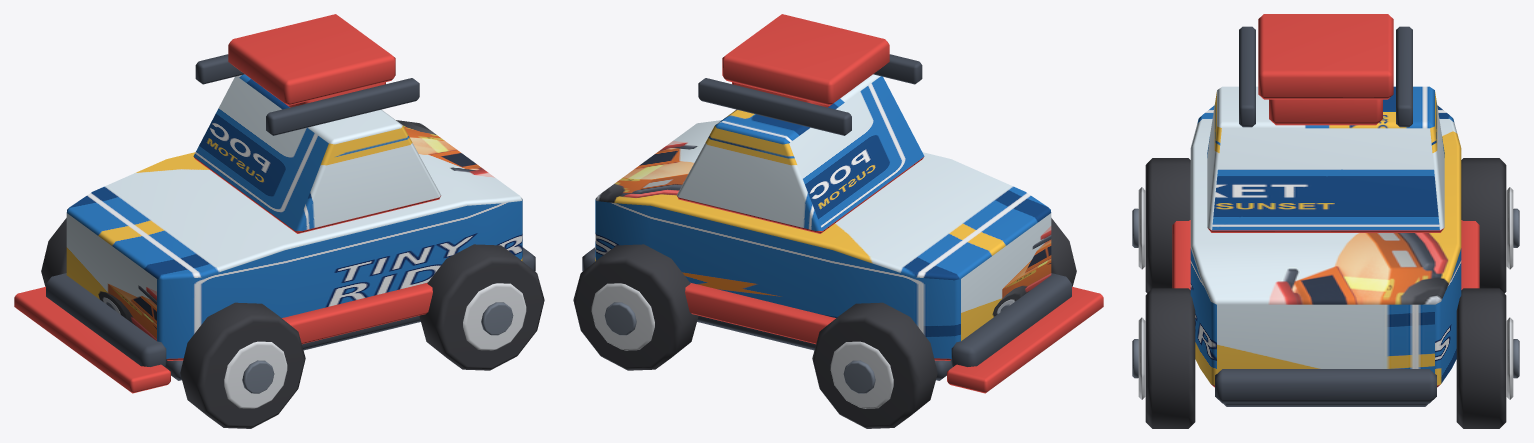
3 views of the same model, side by side, from view 1: azimuth 30°, elevation 25°; view 2: azimuth 150°, elevation 25°; view 3: azimuth 270°, elevation 25° (orthographic). The views are drawn at different scales.
Parts seen in each view (by area): view 1: CC-01_connected_shell, CC-01_cabin, utility load, Tire, Tire.002, custom chin, custom side guard, front bumper, utility rail, Rim.002, Rim, underbody (+4 smaller); view 2: CC-01_connected_shell, CC-01_cabin, utility load, Tire.001, Tire.003, custom chin, custom side guard.001, front bumper, utility rail.001, Rim.003, Rim.001, underbody (+4 smaller); view 3: CC-01_connected_shell, CC-01_cabin, utility load, rear bumper, Tire.002, Tire.003, Tire, Tire.001, custom equipment, utility rail, utility rail.001, custom side guard (+6 smaller).
Boxes of the visible parts, left/top/right/bottom form: CC-01_connected_shell: left=66, top=120, right=522, bottom=360; CC-01_cabin: left=193, top=74, right=441, bottom=233; utility load: left=228, top=14, right=395, bottom=105; Tire: left=180, top=302, right=305, bottom=428; Tire.002: left=419, top=244, right=544, bottom=370; custom chin: left=14, top=286, right=170, bottom=393; custom side guard: left=282, top=282, right=432, bottom=344; front bumper: left=46, top=273, right=167, bottom=366; utility rail: left=266, top=78, right=419, bottom=135; Rim.002: left=463, top=283, right=526, bottom=350; Rim: left=224, top=341, right=287, bottom=408; underbody: left=165, top=316, right=420, bottom=380; CC-01_connected_shell: left=595, top=120, right=1051, bottom=360; CC-01_cabin: left=676, top=74, right=924, bottom=233; utility load: left=722, top=14, right=889, bottom=105; Tire.001: left=812, top=302, right=937, bottom=428; Tire.003: left=573, top=244, right=698, bottom=370; custom chin: left=947, top=286, right=1103, bottom=393; custom side guard.001: left=685, top=282, right=835, bottom=344; front bumper: left=950, top=273, right=1071, bottom=366; utility rail.001: left=698, top=78, right=851, bottom=135; Rim.003: left=591, top=283, right=654, bottom=350; Rim.001: left=830, top=341, right=893, bottom=408; underbody: left=697, top=316, right=952, bottom=380; CC-01_connected_shell: left=1190, top=105, right=1461, bottom=387; CC-01_cabin: left=1207, top=86, right=1444, bottom=232; utility load: left=1258, top=14, right=1393, bottom=99; rear bumper: left=1215, top=369, right=1436, bottom=403; Tire.002: left=1145, top=288, right=1195, bottom=428; Tire.003: left=1456, top=288, right=1506, bottom=428; Tire: left=1145, top=158, right=1190, bottom=293; Tire.001: left=1461, top=158, right=1506, bottom=293; custom equipment: left=1269, top=99, right=1382, bottom=125; utility rail: left=1239, top=26, right=1255, bottom=127; utility rail.001: left=1396, top=26, right=1412, bottom=127; custom side guard: left=1172, top=220, right=1190, bottom=289.
Size of the model in its own units: 282 by 189 by 203.
